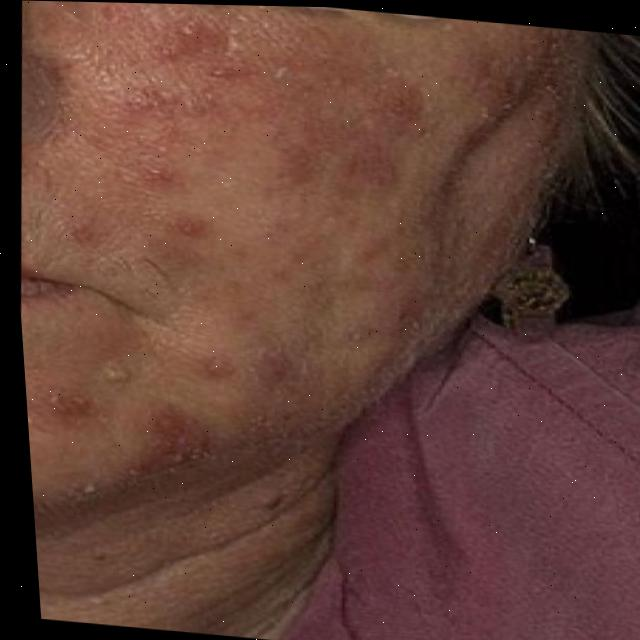Rosacea: (14, 12, 481, 516)
